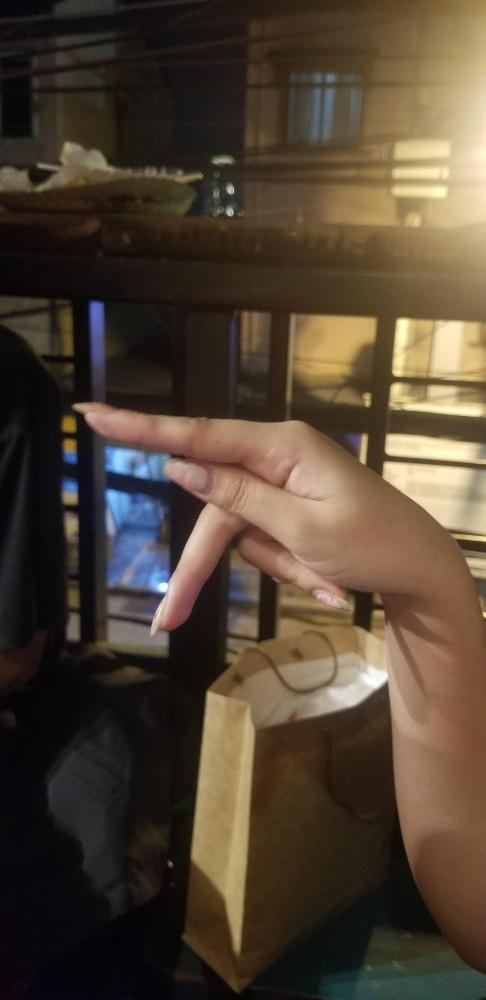p: (67, 394, 439, 640)
